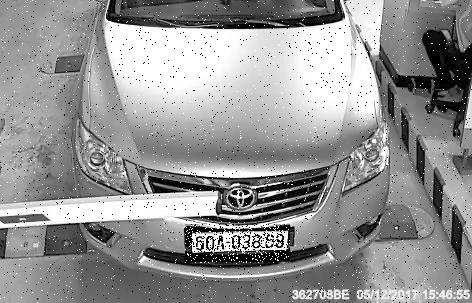License-plate: (186, 226, 291, 265)
